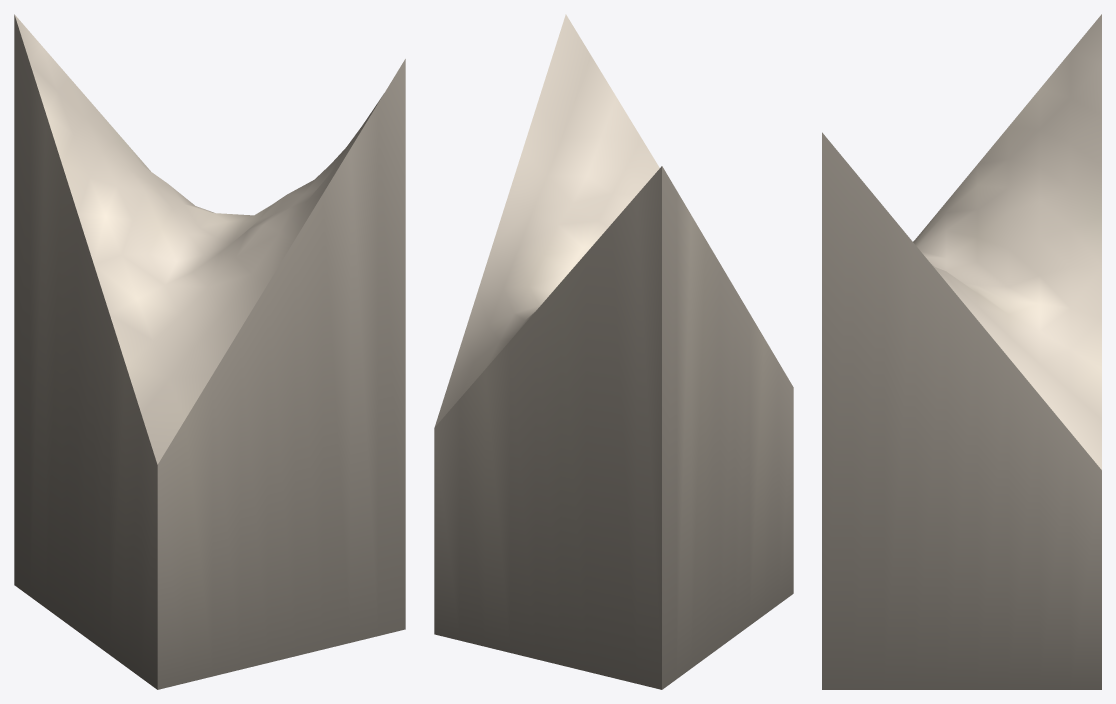
File: SM_VKI_Rock_Cave_CFCF_A.fbx
3 views of the same model, side by side, from view 1: azimuth 30°, elevation 25°; view 2: azimuth 150°, elevation 25°; view 3: azimuth 270°, elevation 25° (orthographic). The views are drawn at different scales.
Parts seen in each view (by area): view 1: SM_VKI_Rock_Cave_CFCF_A.001; view 2: SM_VKI_Rock_Cave_CFCF_A.001; view 3: SM_VKI_Rock_Cave_CFCF_A.001.
Boxes of the visible parts, bbox=[...] form: SM_VKI_Rock_Cave_CFCF_A.001: bbox=[14, 14, 405, 689]; SM_VKI_Rock_Cave_CFCF_A.001: bbox=[434, 14, 793, 689]; SM_VKI_Rock_Cave_CFCF_A.001: bbox=[822, 14, 1101, 689].
Bounding box in the file's own units: 1.5 × 3.3 × 1.5.
